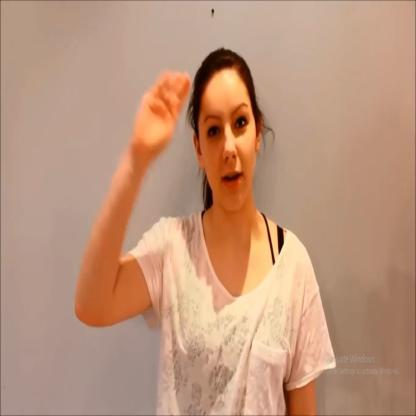Hello: (130, 31, 267, 220)
